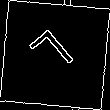L_SE: (27, 25, 83, 85)
